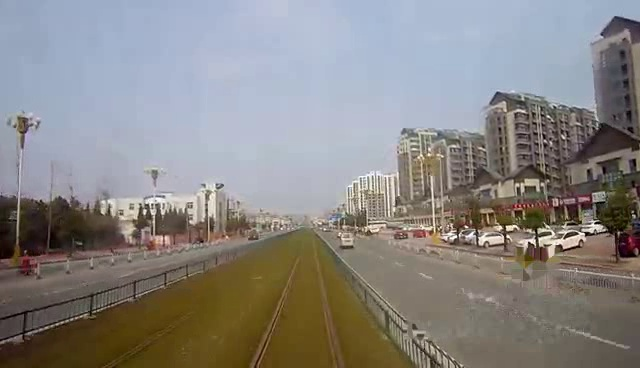car: (338, 231, 357, 249)
